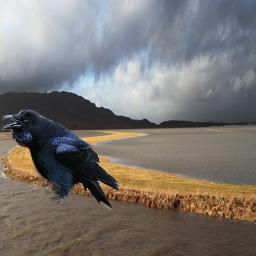Crow: (2, 109, 120, 211)
